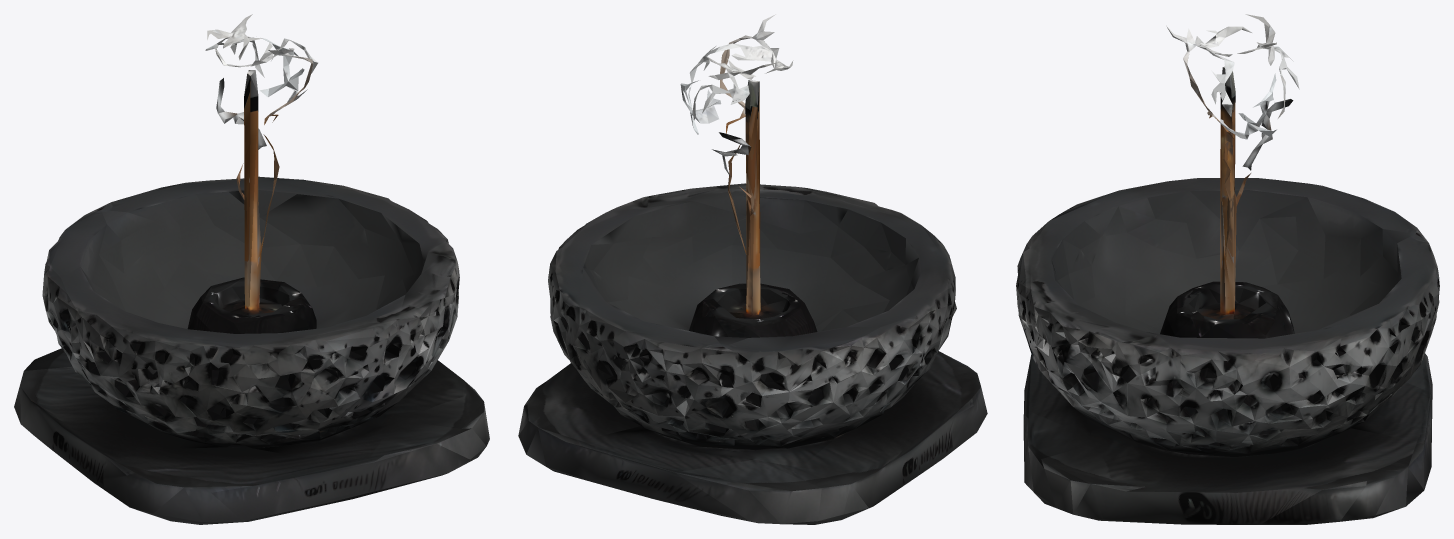
File: product-village-001-mobile.glb
3 renders of one model, left to right at view 1: azimuth 30°, elevation 25°; view 2: azimuth 150°, elevation 25°; view 3: azimuth 270°, elevation 25°, orthographic. The views are drawn at different scales.
Parts seen in each view (by area): view 1: material; view 2: material; view 3: material.
Boxes of the visible parts, x1,y1,x2,y2 form: material: (14, 14, 489, 524); material: (518, 14, 987, 524); material: (1016, 14, 1439, 524).
Bounding box in the file's own units: 0.7688 × 0.8243 × 0.7601.
1 material, 1 textured.
